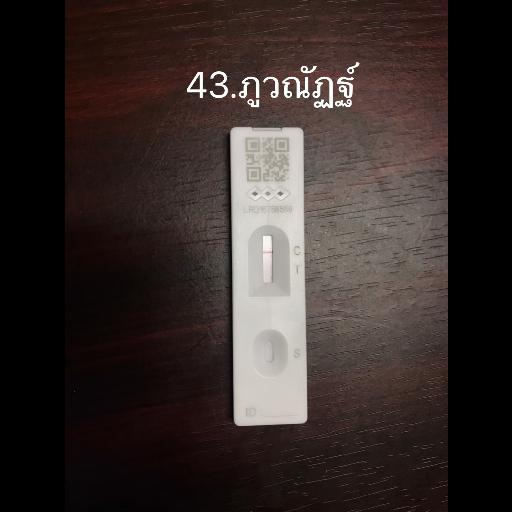Neg: (227, 122, 307, 422)
